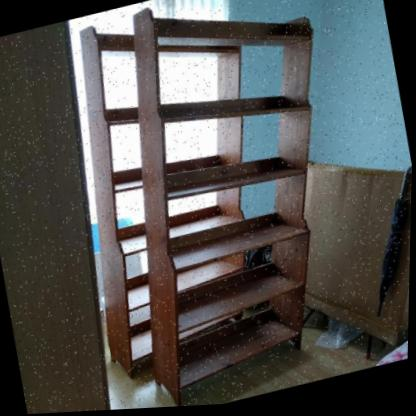Shelf: (43, 0, 384, 414)
